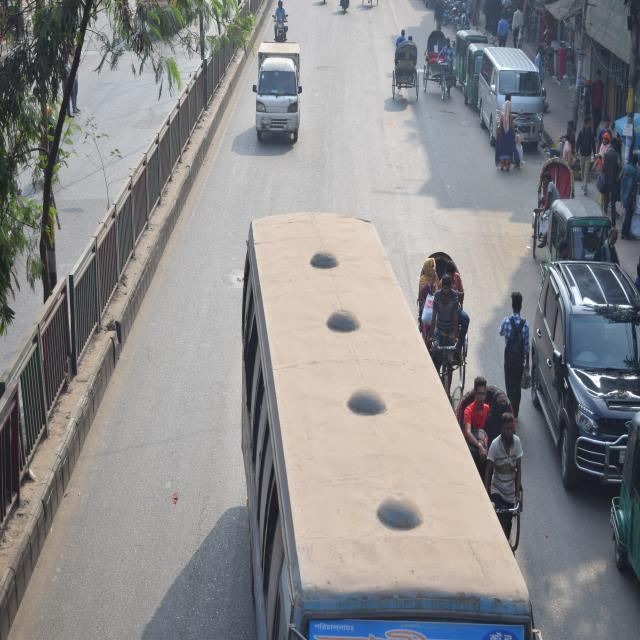bus: (224, 203, 532, 640)
car: (541, 249, 640, 507)
microbus: (478, 45, 545, 152)
motorbike: (492, 100, 522, 174)
pickup-van: (254, 39, 302, 144)
